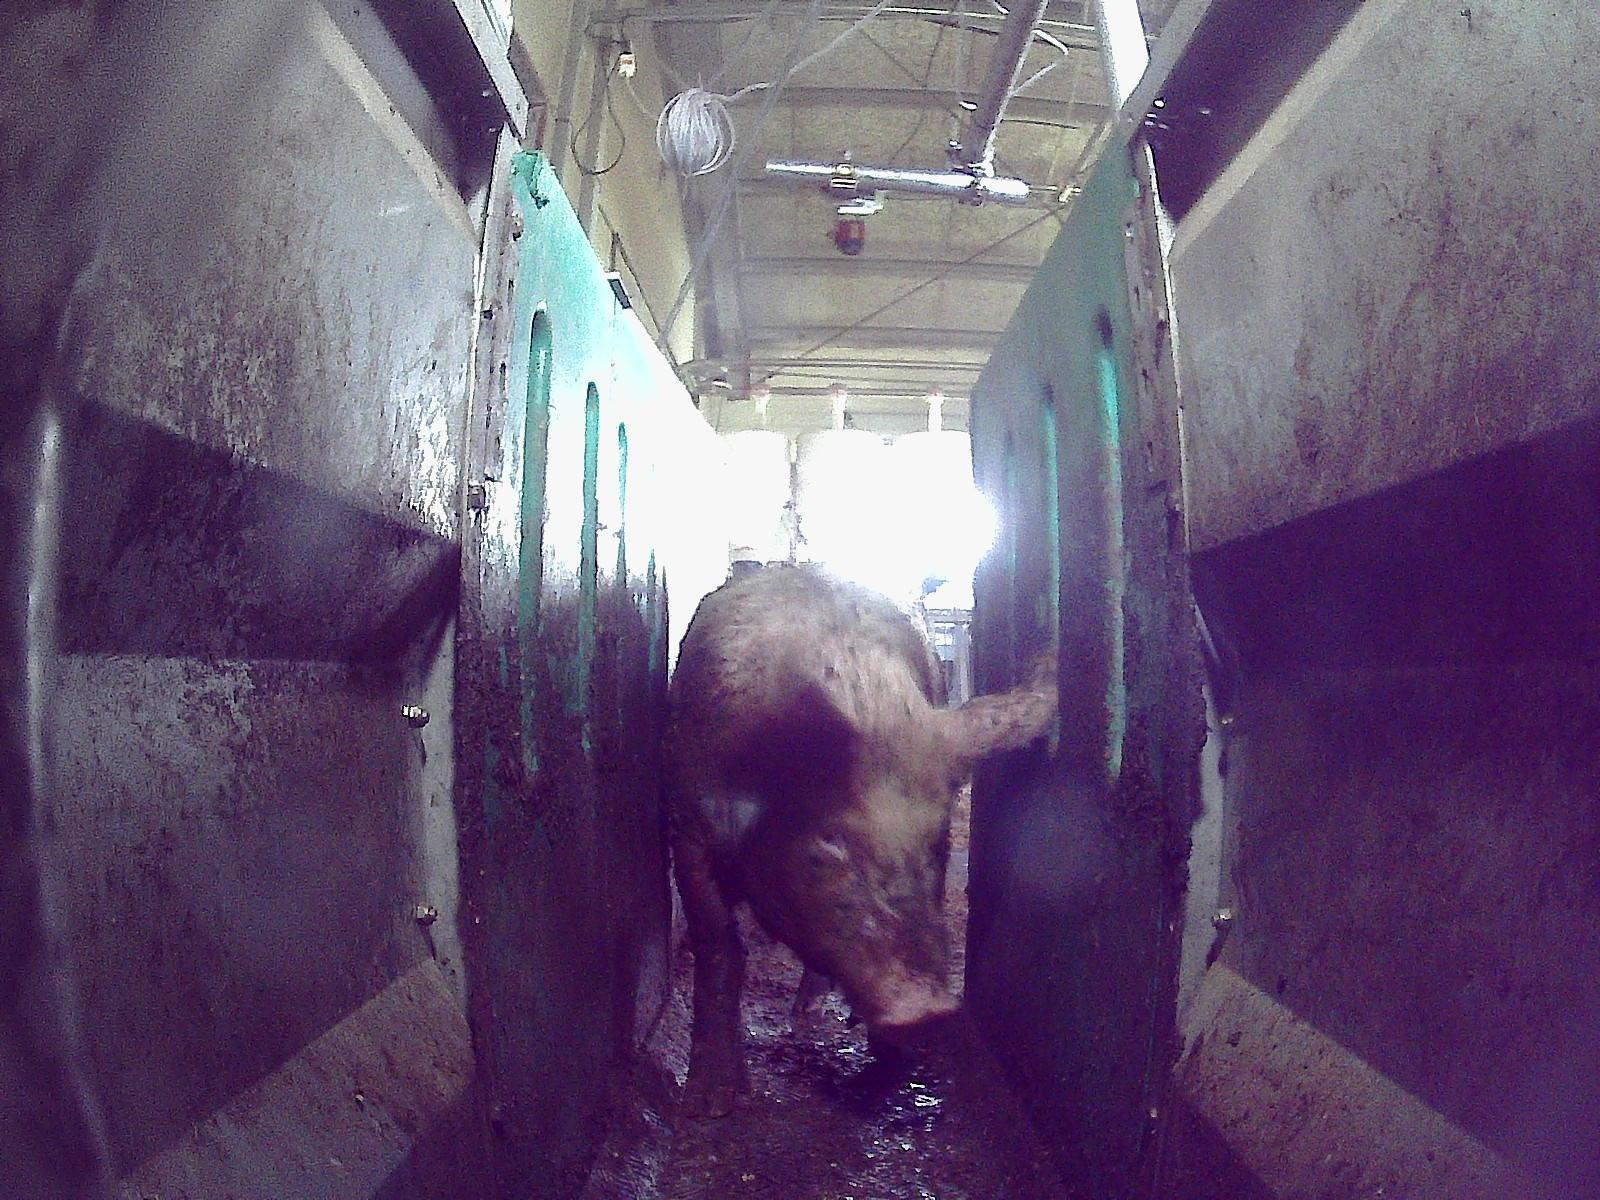Face: (738, 748, 960, 1040)
